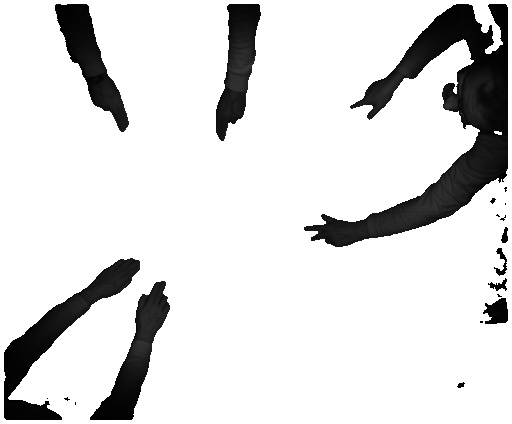hand: (88, 76, 135, 135), (85, 256, 143, 300), (136, 281, 175, 341), (344, 79, 399, 119), (304, 213, 361, 247), (216, 93, 247, 143)
